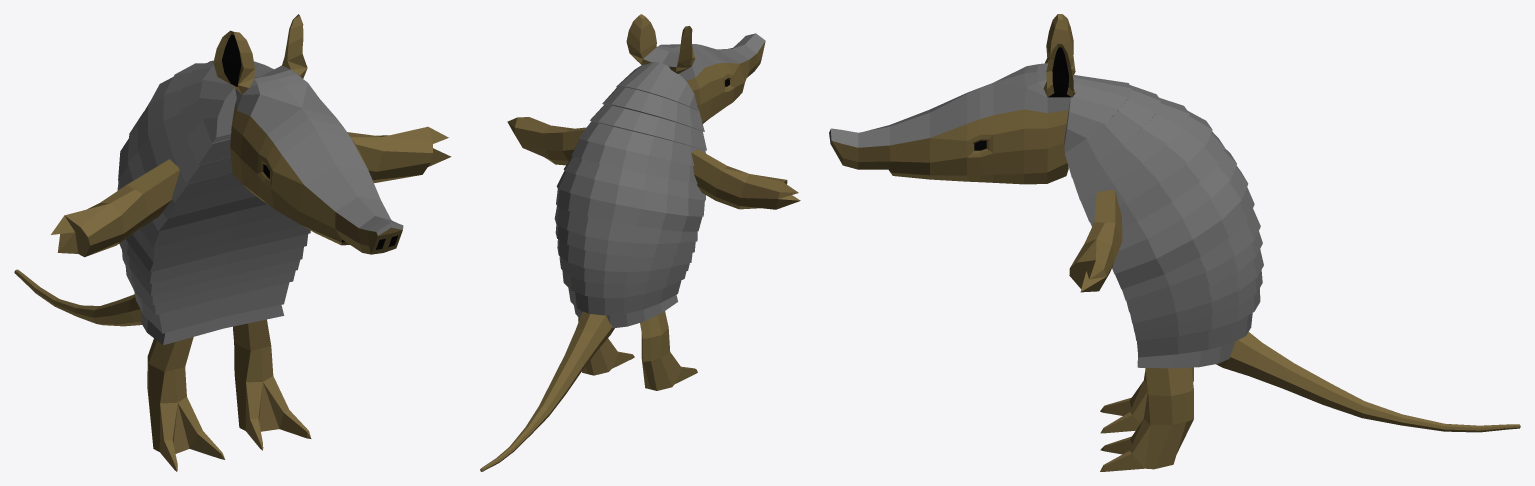
File: Bill (old).fbx
3 renders of one model, left to right at view 1: azimuth 30°, elevation 25°; view 2: azimuth 150°, elevation 25°; view 3: azimuth 270°, elevation 25°, orthographic. The views are drawn at different scales.
Visible parts, largest first — view 1: polySurface16, polySurface14, polySurface19, polySurface17, polySurface18, polySurface20, polySurface15; view 2: polySurface16, polySurface14, polySurface19, polySurface15, polySurface17, polySurface20, polySurface18; view 3: polySurface16, polySurface14, polySurface15, polySurface18, polySurface20, polySurface17.
Part boxes in pixels (<box>): polySurface16: <box>117,60,310,345</box>; polySurface14: <box>213,14,403,254</box>; polySurface19: <box>51,159,179,257</box>; polySurface17: <box>147,337,225,471</box>; polySurface18: <box>233,319,311,450</box>; polySurface20: <box>347,126,451,183</box>; polySurface15: <box>14,269,141,326</box>; polySurface16: <box>554,62,706,328</box>; polySurface14: <box>626,14,765,123</box>; polySurface19: <box>691,149,800,209</box>; polySurface15: <box>480,311,614,471</box>; polySurface17: <box>640,311,697,390</box>; polySurface20: <box>507,117,586,165</box>; polySurface18: <box>578,317,634,375</box>; polySurface16: <box>1064,75,1263,368</box>; polySurface14: <box>829,14,1075,184</box>; polySurface15: <box>1216,332,1520,432</box>; polySurface18: <box>1100,367,1193,471</box>; polySurface20: <box>1069,189,1122,292</box>; polySurface17: <box>1100,367,1193,433</box>.
Bounding box in the file's own units: 2.62 × 2.82 × 4.28.
